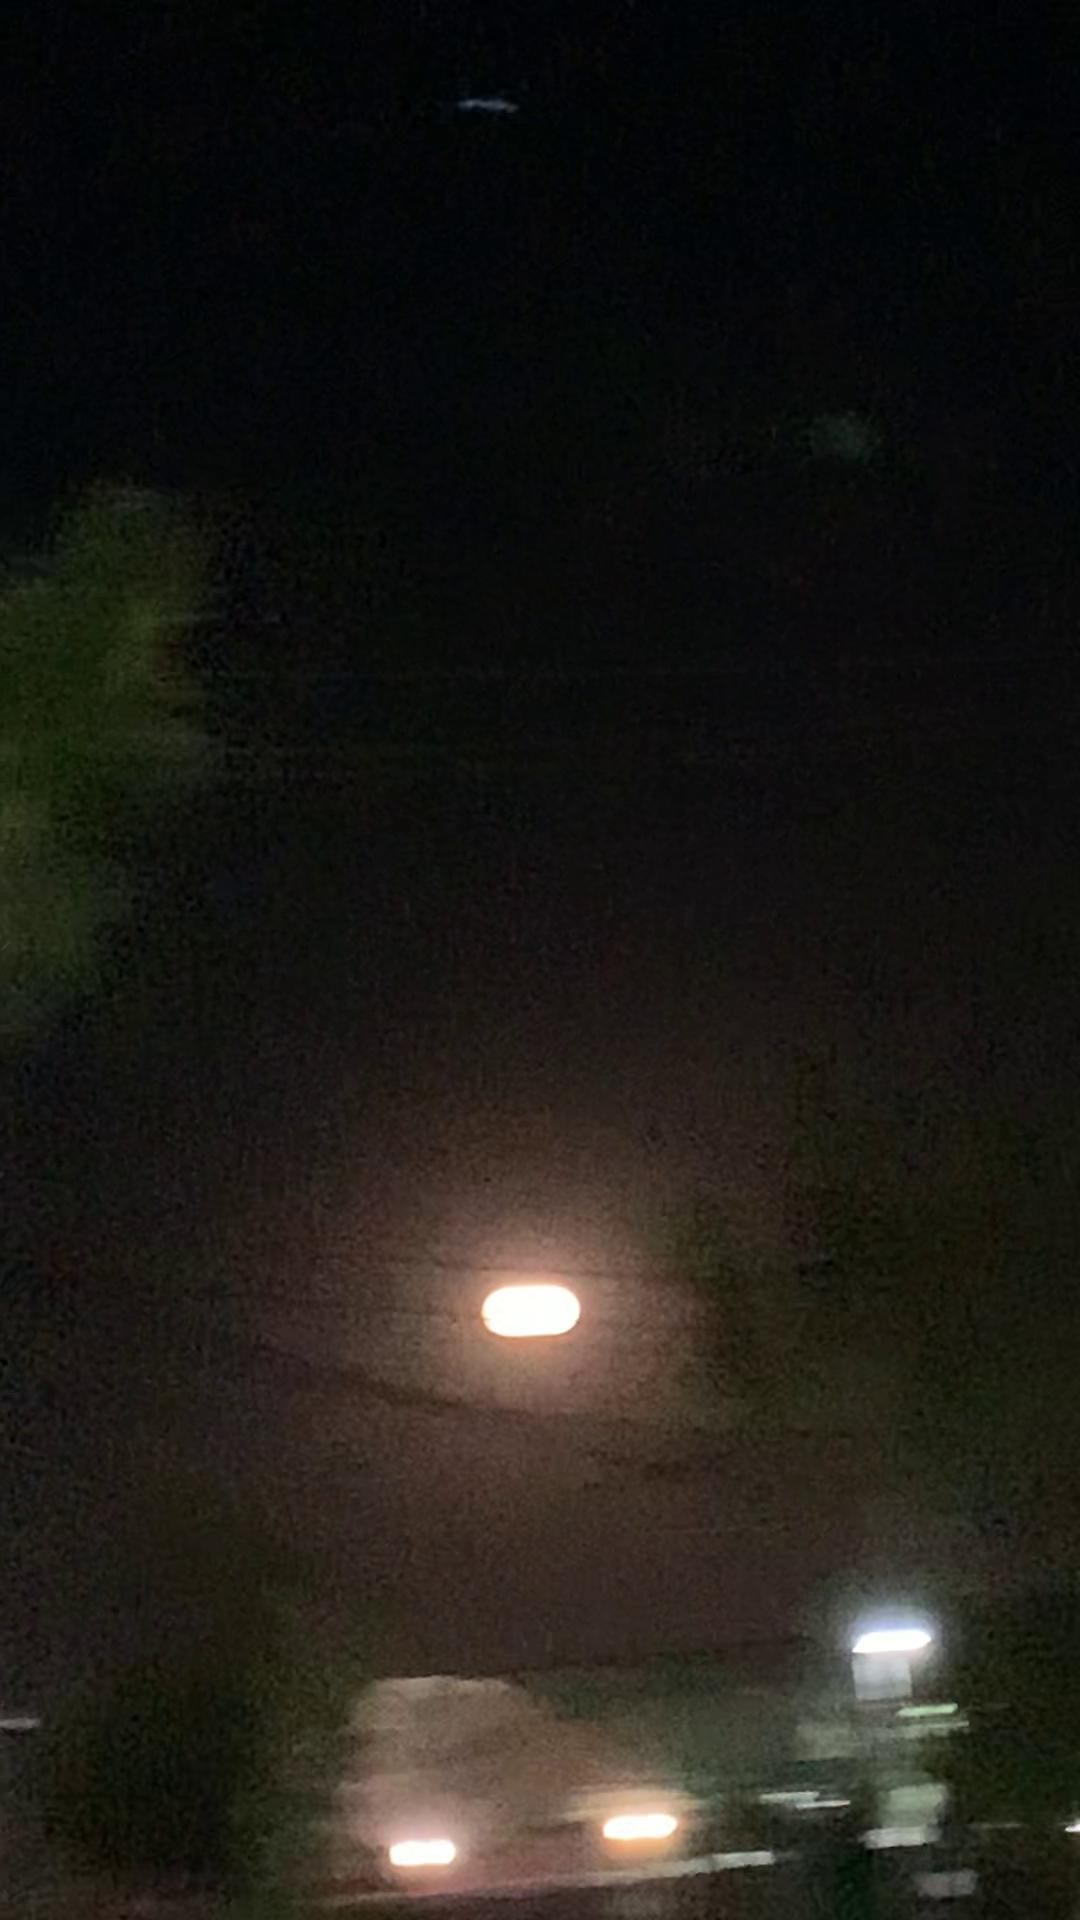moon: (489, 1267, 587, 1340)
